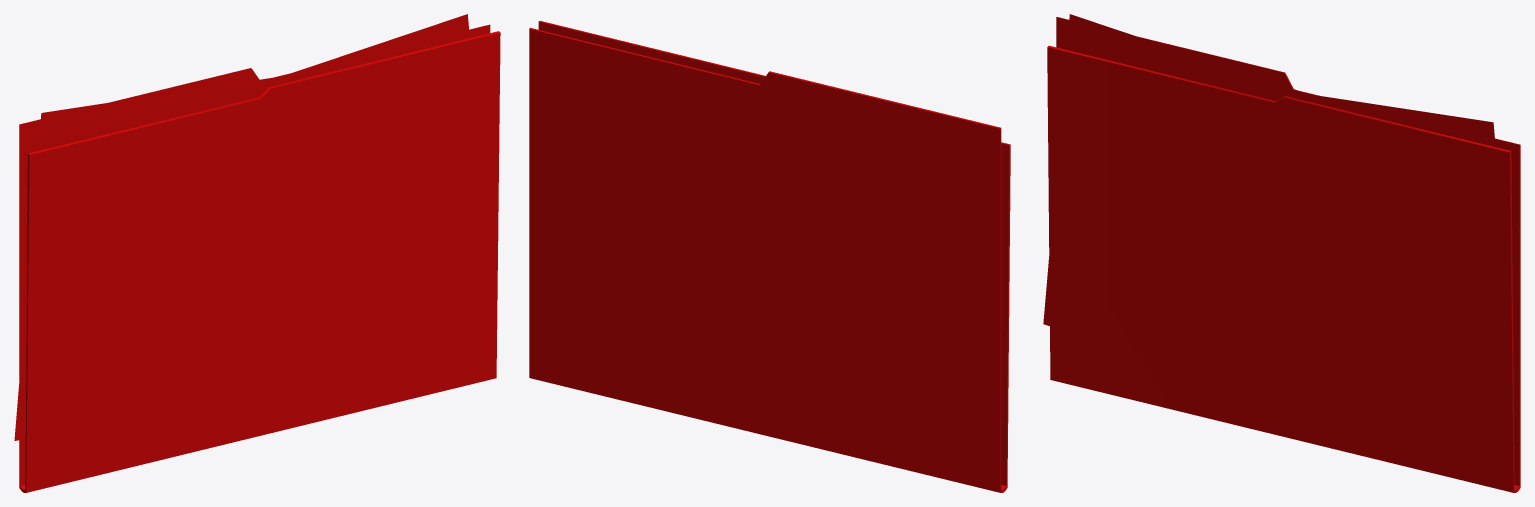
The model's file is Attic_Folder_02_LP.glb.
3 renders of one model, left to right at view 1: azimuth 30°, elevation 25°; view 2: azimuth 150°, elevation 25°; view 3: azimuth 330°, elevation 25°, orthographic.
Visible parts, largest first — view 1: Attic_Folder_02_LP; view 2: Attic_Folder_02_LP; view 3: Attic_Folder_02_LP.
Boxes of the visible parts, x1,y1,x2,y2 form: Attic_Folder_02_LP: [14, 14, 500, 492]; Attic_Folder_02_LP: [529, 21, 1010, 492]; Attic_Folder_02_LP: [1043, 14, 1520, 492].
Bounding box in the file's own units: 0.4464 × 0.3324 × 0.0175.
